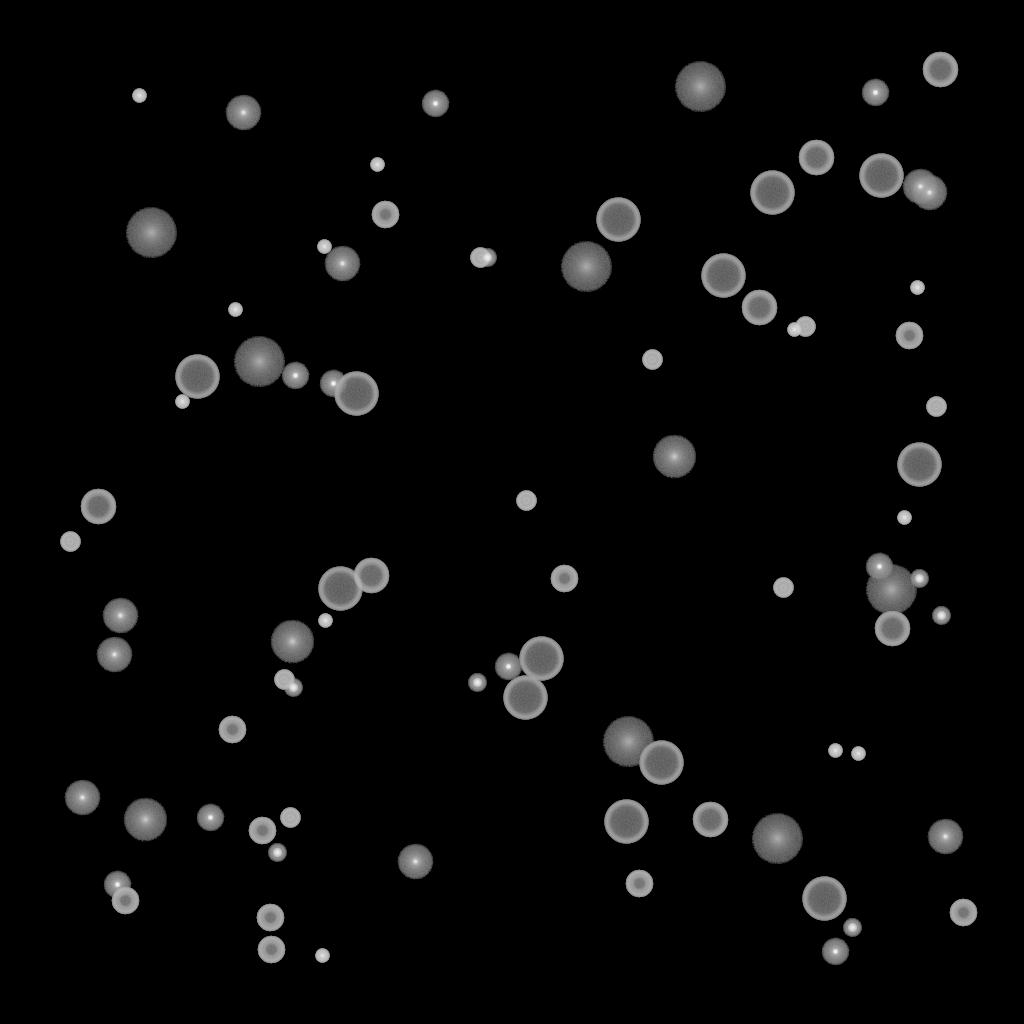depth:-10: (103, 871, 131, 899), (319, 370, 347, 398), (196, 804, 224, 832), (865, 553, 893, 581), (281, 362, 309, 390), (494, 653, 522, 681), (421, 90, 449, 118), (861, 79, 889, 107), (821, 938, 849, 966)
depth:-20: (932, 607, 950, 625), (478, 249, 496, 267), (268, 844, 286, 862), (284, 679, 302, 697), (843, 919, 861, 937), (468, 674, 486, 692), (910, 570, 928, 588)
depth:-30: (851, 747, 865, 761), (910, 281, 924, 295), (315, 949, 329, 963), (132, 89, 146, 103), (828, 744, 842, 758), (317, 240, 331, 254), (318, 614, 332, 628), (787, 323, 801, 337), (228, 303, 242, 317), (897, 511, 911, 525), (370, 158, 384, 172), (175, 395, 189, 409)
depth:-40: (274, 670, 294, 690), (642, 350, 662, 370), (926, 397, 946, 417), (280, 808, 300, 828), (773, 578, 793, 598), (795, 317, 815, 337), (60, 532, 80, 552), (470, 248, 490, 268), (516, 491, 536, 511)
depth:-50: (248, 817, 276, 845), (218, 716, 246, 744), (949, 899, 977, 927), (256, 904, 284, 932), (257, 936, 285, 964), (625, 870, 653, 898), (895, 322, 923, 350), (550, 565, 578, 593), (111, 887, 139, 915), (371, 201, 399, 229)
depth:-60: (922, 52, 958, 88), (80, 489, 116, 525), (692, 802, 728, 838), (798, 140, 834, 176), (353, 558, 389, 594), (741, 290, 777, 326), (874, 611, 910, 647)
depth:-70: (604, 800, 648, 844), (334, 372, 378, 416), (596, 198, 640, 242), (701, 254, 745, 298), (503, 676, 547, 720), (519, 637, 563, 681), (897, 443, 941, 487), (750, 171, 794, 215), (859, 154, 903, 198), (802, 877, 846, 921), (639, 741, 683, 785), (318, 567, 362, 611), (175, 355, 219, 399)
depth:0: (324, 246, 360, 282), (102, 598, 138, 634), (225, 95, 261, 131), (397, 844, 433, 880), (927, 819, 963, 855), (96, 637, 132, 673), (64, 780, 100, 816), (911, 175, 947, 211), (902, 169, 938, 205)
depth:10: (652, 435, 696, 479), (123, 798, 167, 842), (270, 620, 314, 664)
depth:20: (125, 208, 177, 258), (674, 62, 726, 112), (865, 565, 917, 615), (751, 814, 803, 864), (602, 717, 654, 767), (560, 242, 612, 292), (233, 337, 285, 387)
